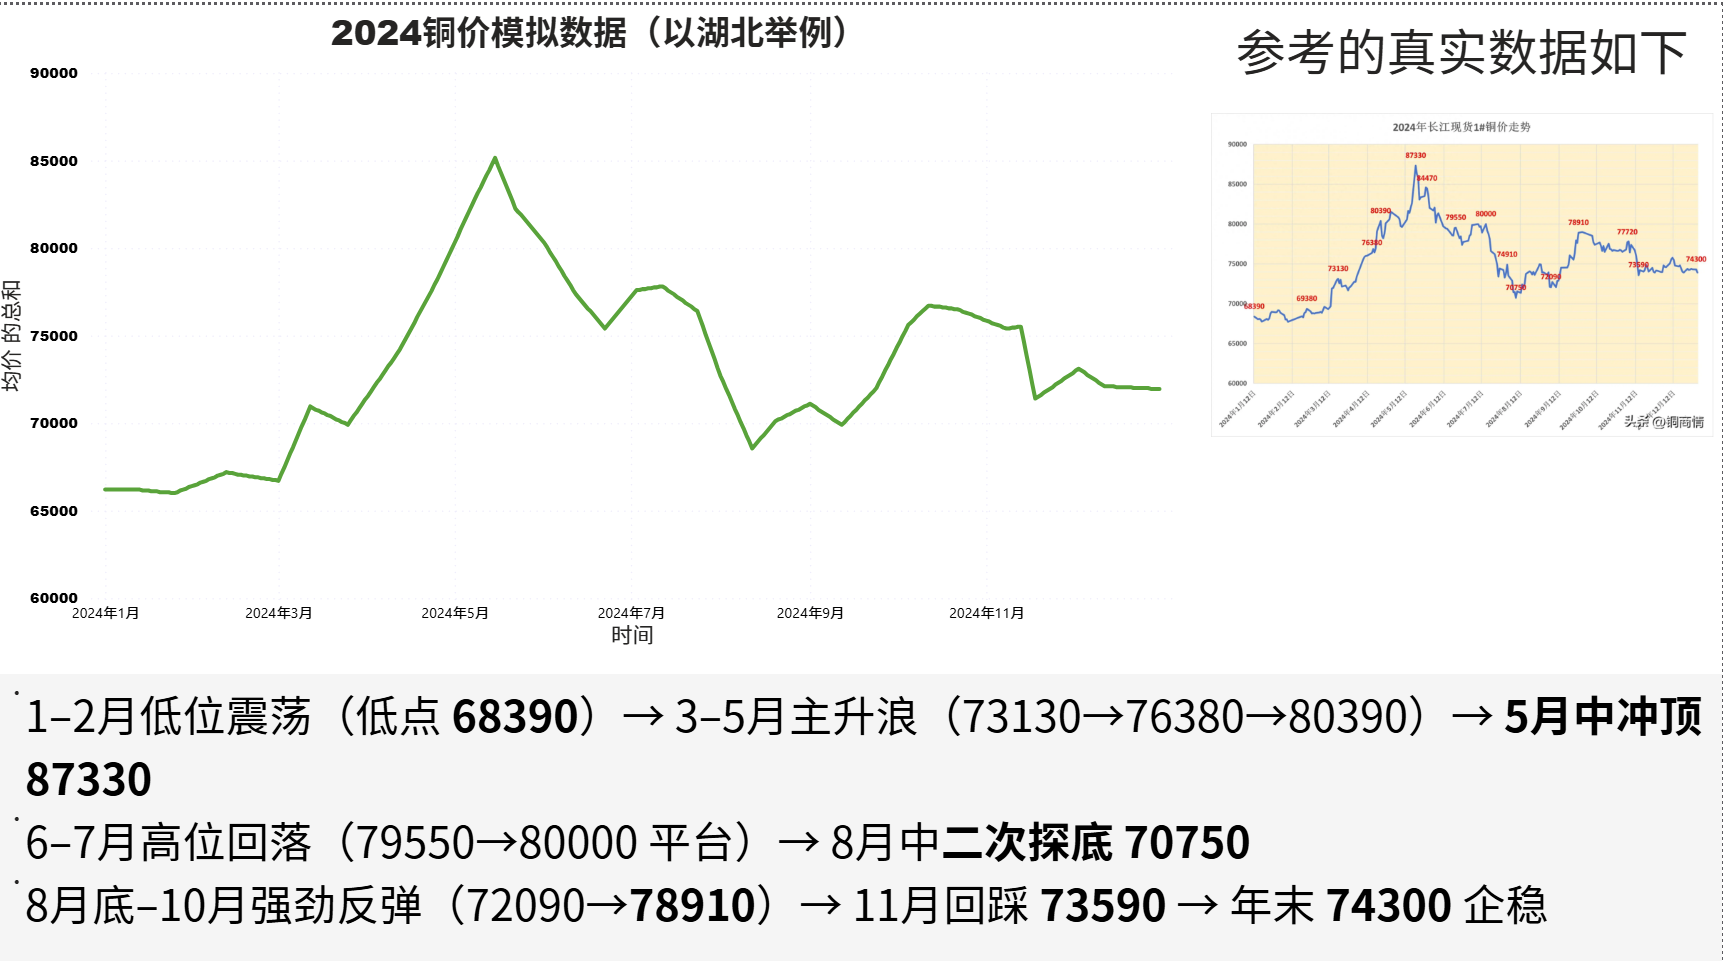

The dashboard page shown, as its layout file describes it:
{"tool":"powerbi","page":{"name":"第 1 页","canvas":[1280,720],"ordinal":0},"visuals":[{"type":"lineChart","title":"2024铜价模拟数据（以湖北举例）","fields":{"Category":["湖北.时间"],"Y":["Sum(湖北.均价)"]},"box":[0,0,896,480],"z":0},{"type":"image","box":[896,80,384,240],"z":1},{"type":"textbox","box":[0,496,1280,224],"z":2},{"type":"textbox","box":[896,0,384,80],"z":3}]}

Visuals, with their boxes in screenshot pixels (x1, y1, x2, y2), scaled from the page's 1280x720 canvas onto the 1723x961 screenshot:
"2024铜价模拟数据（以湖北举例）" lineChart: x1=0 y1=0 x2=1206 y2=641
image: x1=1206 y1=107 x2=1722 y2=427
textbox: x1=0 y1=662 x2=1722 y2=960
textbox: x1=1206 y1=0 x2=1722 y2=107
